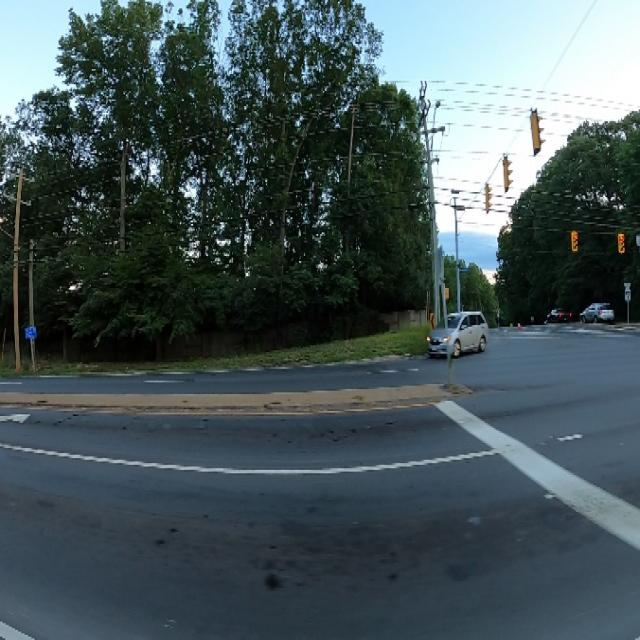car: (417, 296, 493, 364)
